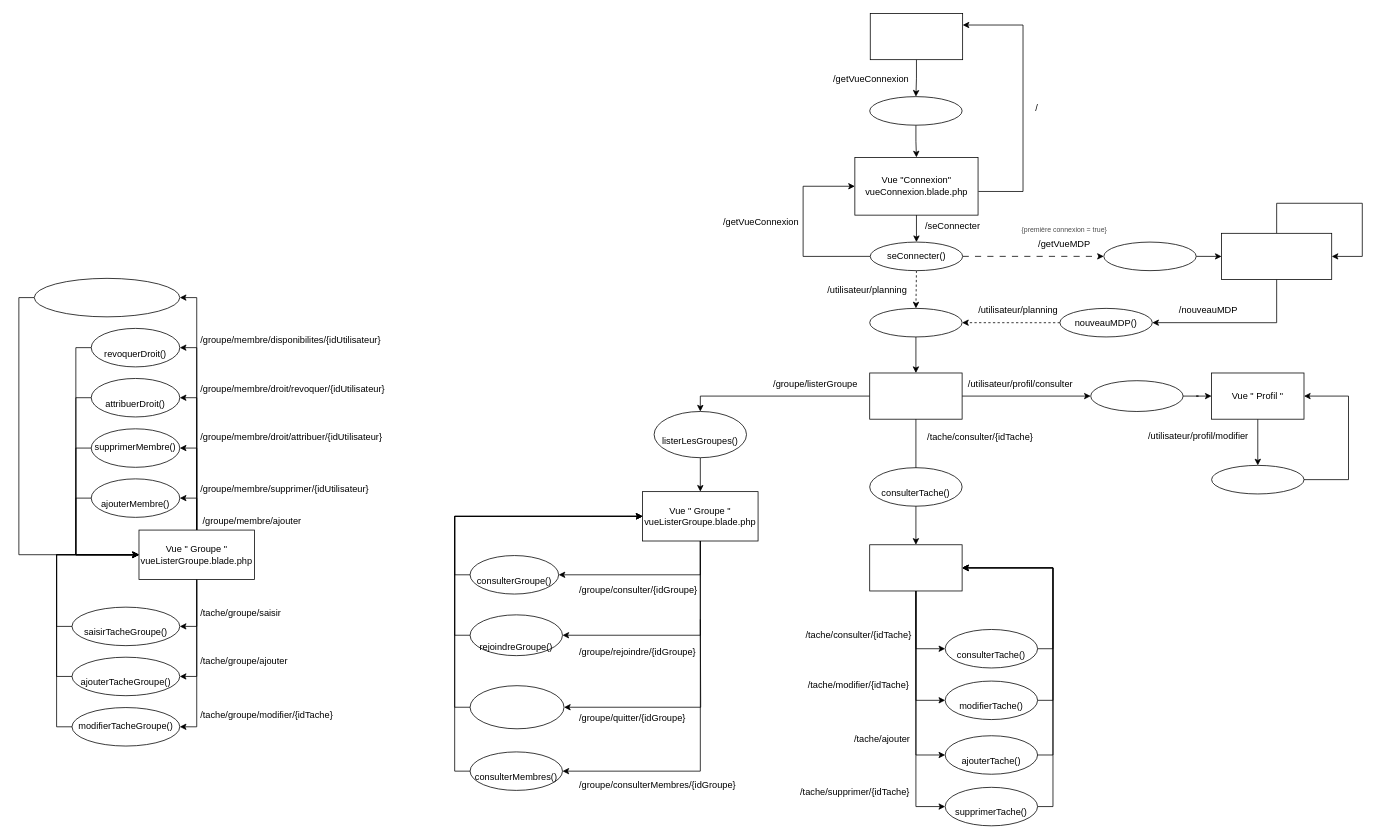
Some shapes in this 1382 by 839 pixel diagram are drawn without their labels. Each missing label, with the centre of its shape:
consulterDisponibilitesMembre (): [106,297]
consulterPlanning(): [915,322]
consulterProfil(): [1136,395]
getVueConnexion(): [915,110]
getVueMdp(): [1149,256]
modifierProfil(): [1257,479]
quitterGroupe(): [516,707]
Vue " Mdp " motDePasse.blade.php: [1276,256]
Vue " Planning " planning.blade.php: [915,395]
Vue " Tâche " vueTache.blade.php: [915,567]
Vue "Accueil" vueAccueil.blade.php: [916,36]
